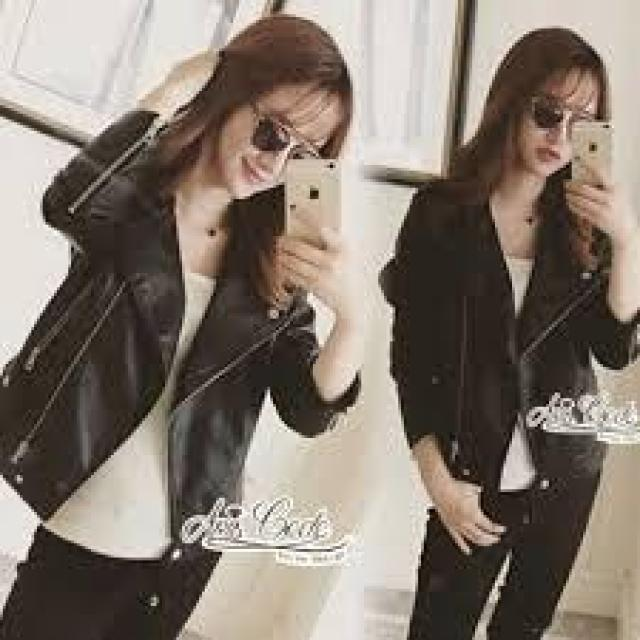jacket: (0, 142, 344, 555), (384, 166, 634, 502)
